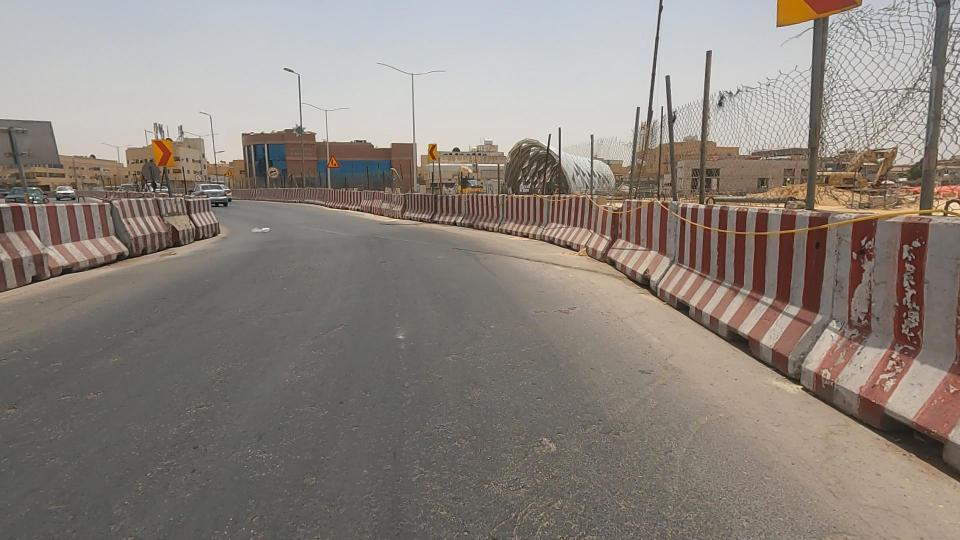CONSTRUCTION_ROAD: (499, 9, 960, 446), (433, 100, 686, 289), (372, 122, 536, 249), (29, 141, 152, 299), (0, 152, 107, 325), (297, 136, 429, 236), (123, 168, 242, 276), (217, 142, 342, 210)
GARBAGE: (221, 205, 293, 259)
